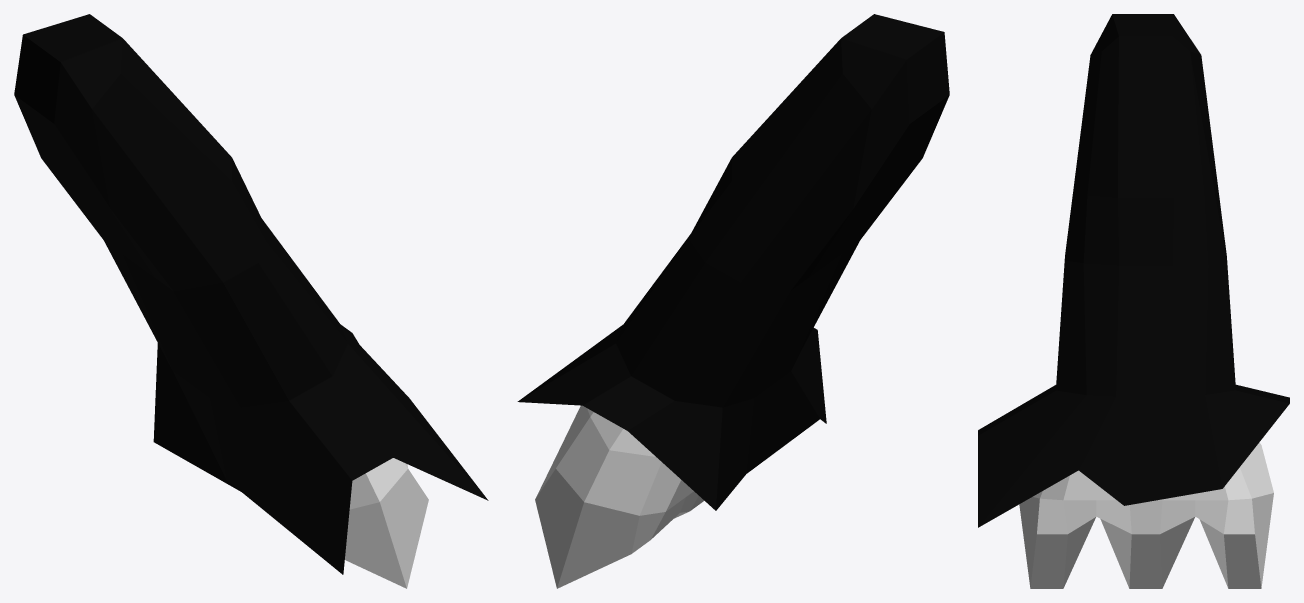
Rendered from rightArm.obj.
3 views of the same model, side by side, from view 1: azimuth 30°, elevation 25°; view 2: azimuth 150°, elevation 25°; view 3: azimuth 270°, elevation 25° (orthographic). The views are drawn at different scales.
Visible parts, largest first — view 1: RIGHT_ARM; view 2: RIGHT_ARM; view 3: RIGHT_ARM.
Boxes of the visible parts, x1,y1,x2,y2 form: RIGHT_ARM: (14, 14, 488, 588); RIGHT_ARM: (517, 14, 949, 588); RIGHT_ARM: (978, 14, 1289, 588).
Bounding box in the file's own units: 0.5074 × 0.7521 × 0.4605.
